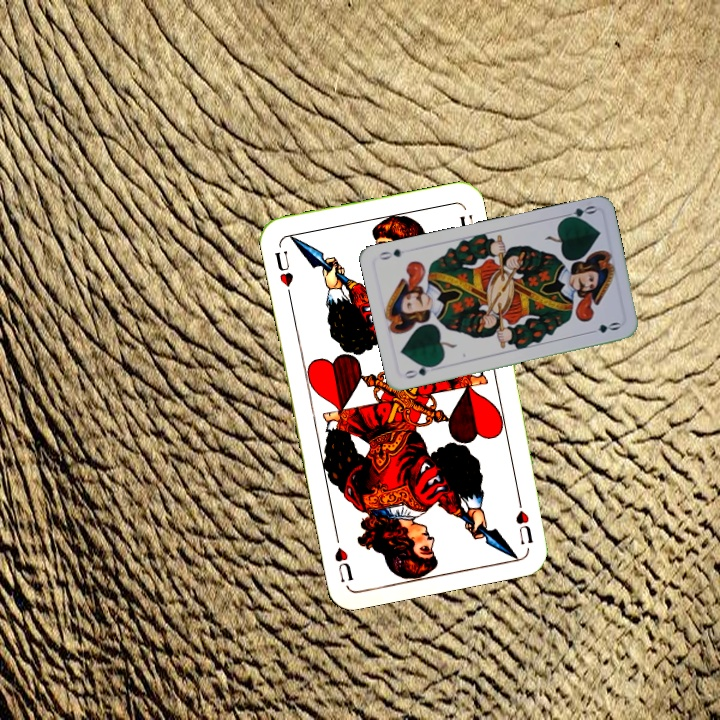GO: (558, 201, 598, 223), (400, 361, 439, 381)
HU: (511, 490, 536, 547), (270, 246, 296, 300)
